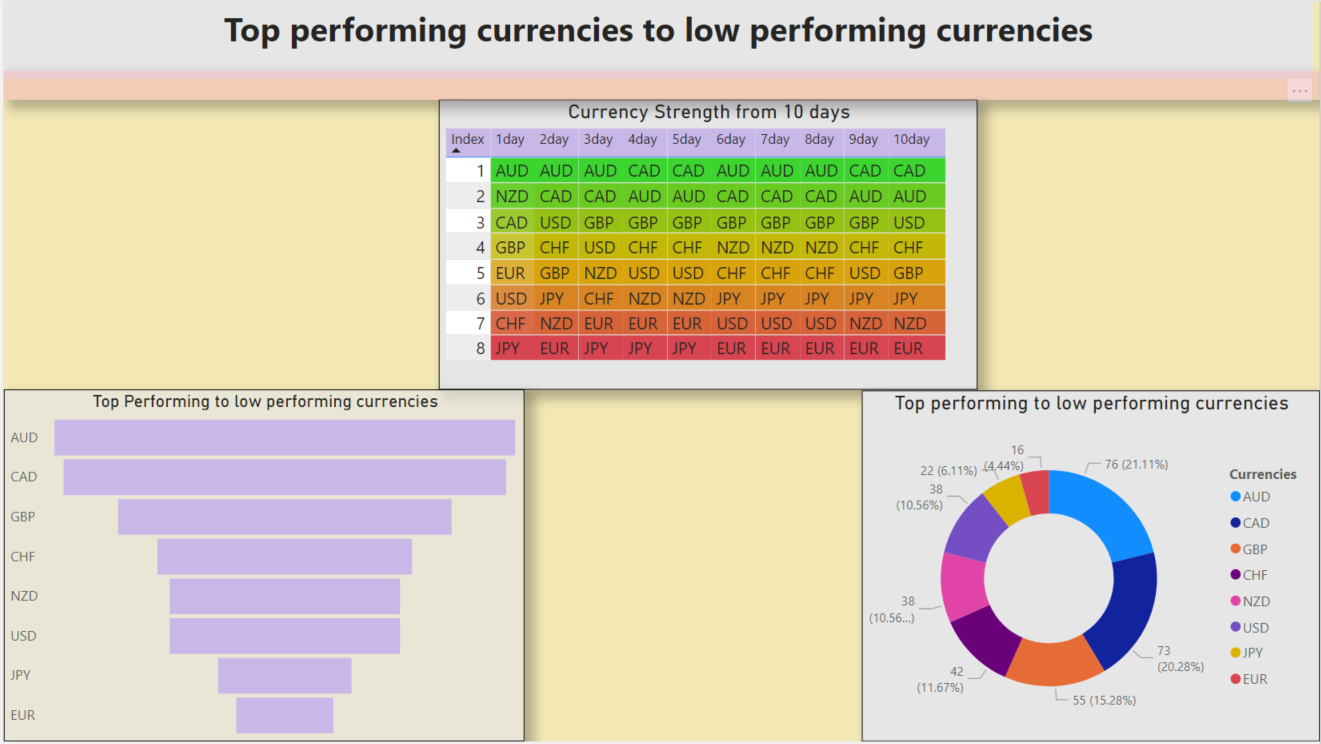

This screenshot's page, from the dashboard's own definition file:
{"tool":"powerbi","page":{"name":"Performing currencies","canvas":[1280,720],"ordinal":1},"visuals":[{"type":"tableEx","title":"Currency Strength from 10 days","fields":{"Values":["combdf.Index","combdf.1day","combdf.2day","combdf.3day","combdf.4day","combdf.5day","combdf.6day","combdf.7day","combdf.8day","combdf.9day","combdf.10day"]},"box":[423.1,95.3,524.3,282.1],"z":0},{"type":"funnel","title":"Top Performing to low performing currencies","fields":{"Y":["Sum(perfomed.Cumulative rank)"],"Category":["perfomed.Currencies"]},"box":[0,377.4,506.7,342.4],"z":1000},{"type":"donutChart","title":"Top performing to low  performing currencies","fields":{"Y":["Sum(perfomed.Cumulative rank)"],"Category":["perfomed.Currencies"]},"box":[834.5,378.4,445.5,341.4],"z":2000},{"type":"textbox","box":[0,0,1273.2,74.9],"z":3000},{"type":"textbox","box":[0,67.1,1280,29.2],"z":4000}]}

Visuals, with their boxes in screenshot pixels (x1, y1, x2, y2), scaled from the page's 1280x720 canvas onto the 1321x744 screenshot:
"Currency Strength from 10 days" tableEx: region(437, 98, 978, 390)
"Top Performing to low performing currencies" funnel: region(0, 390, 523, 743)
"Top performing to low  performing currencies" donutChart: region(861, 391, 1320, 743)
textbox: region(0, 0, 1314, 77)
textbox: region(0, 69, 1320, 100)
